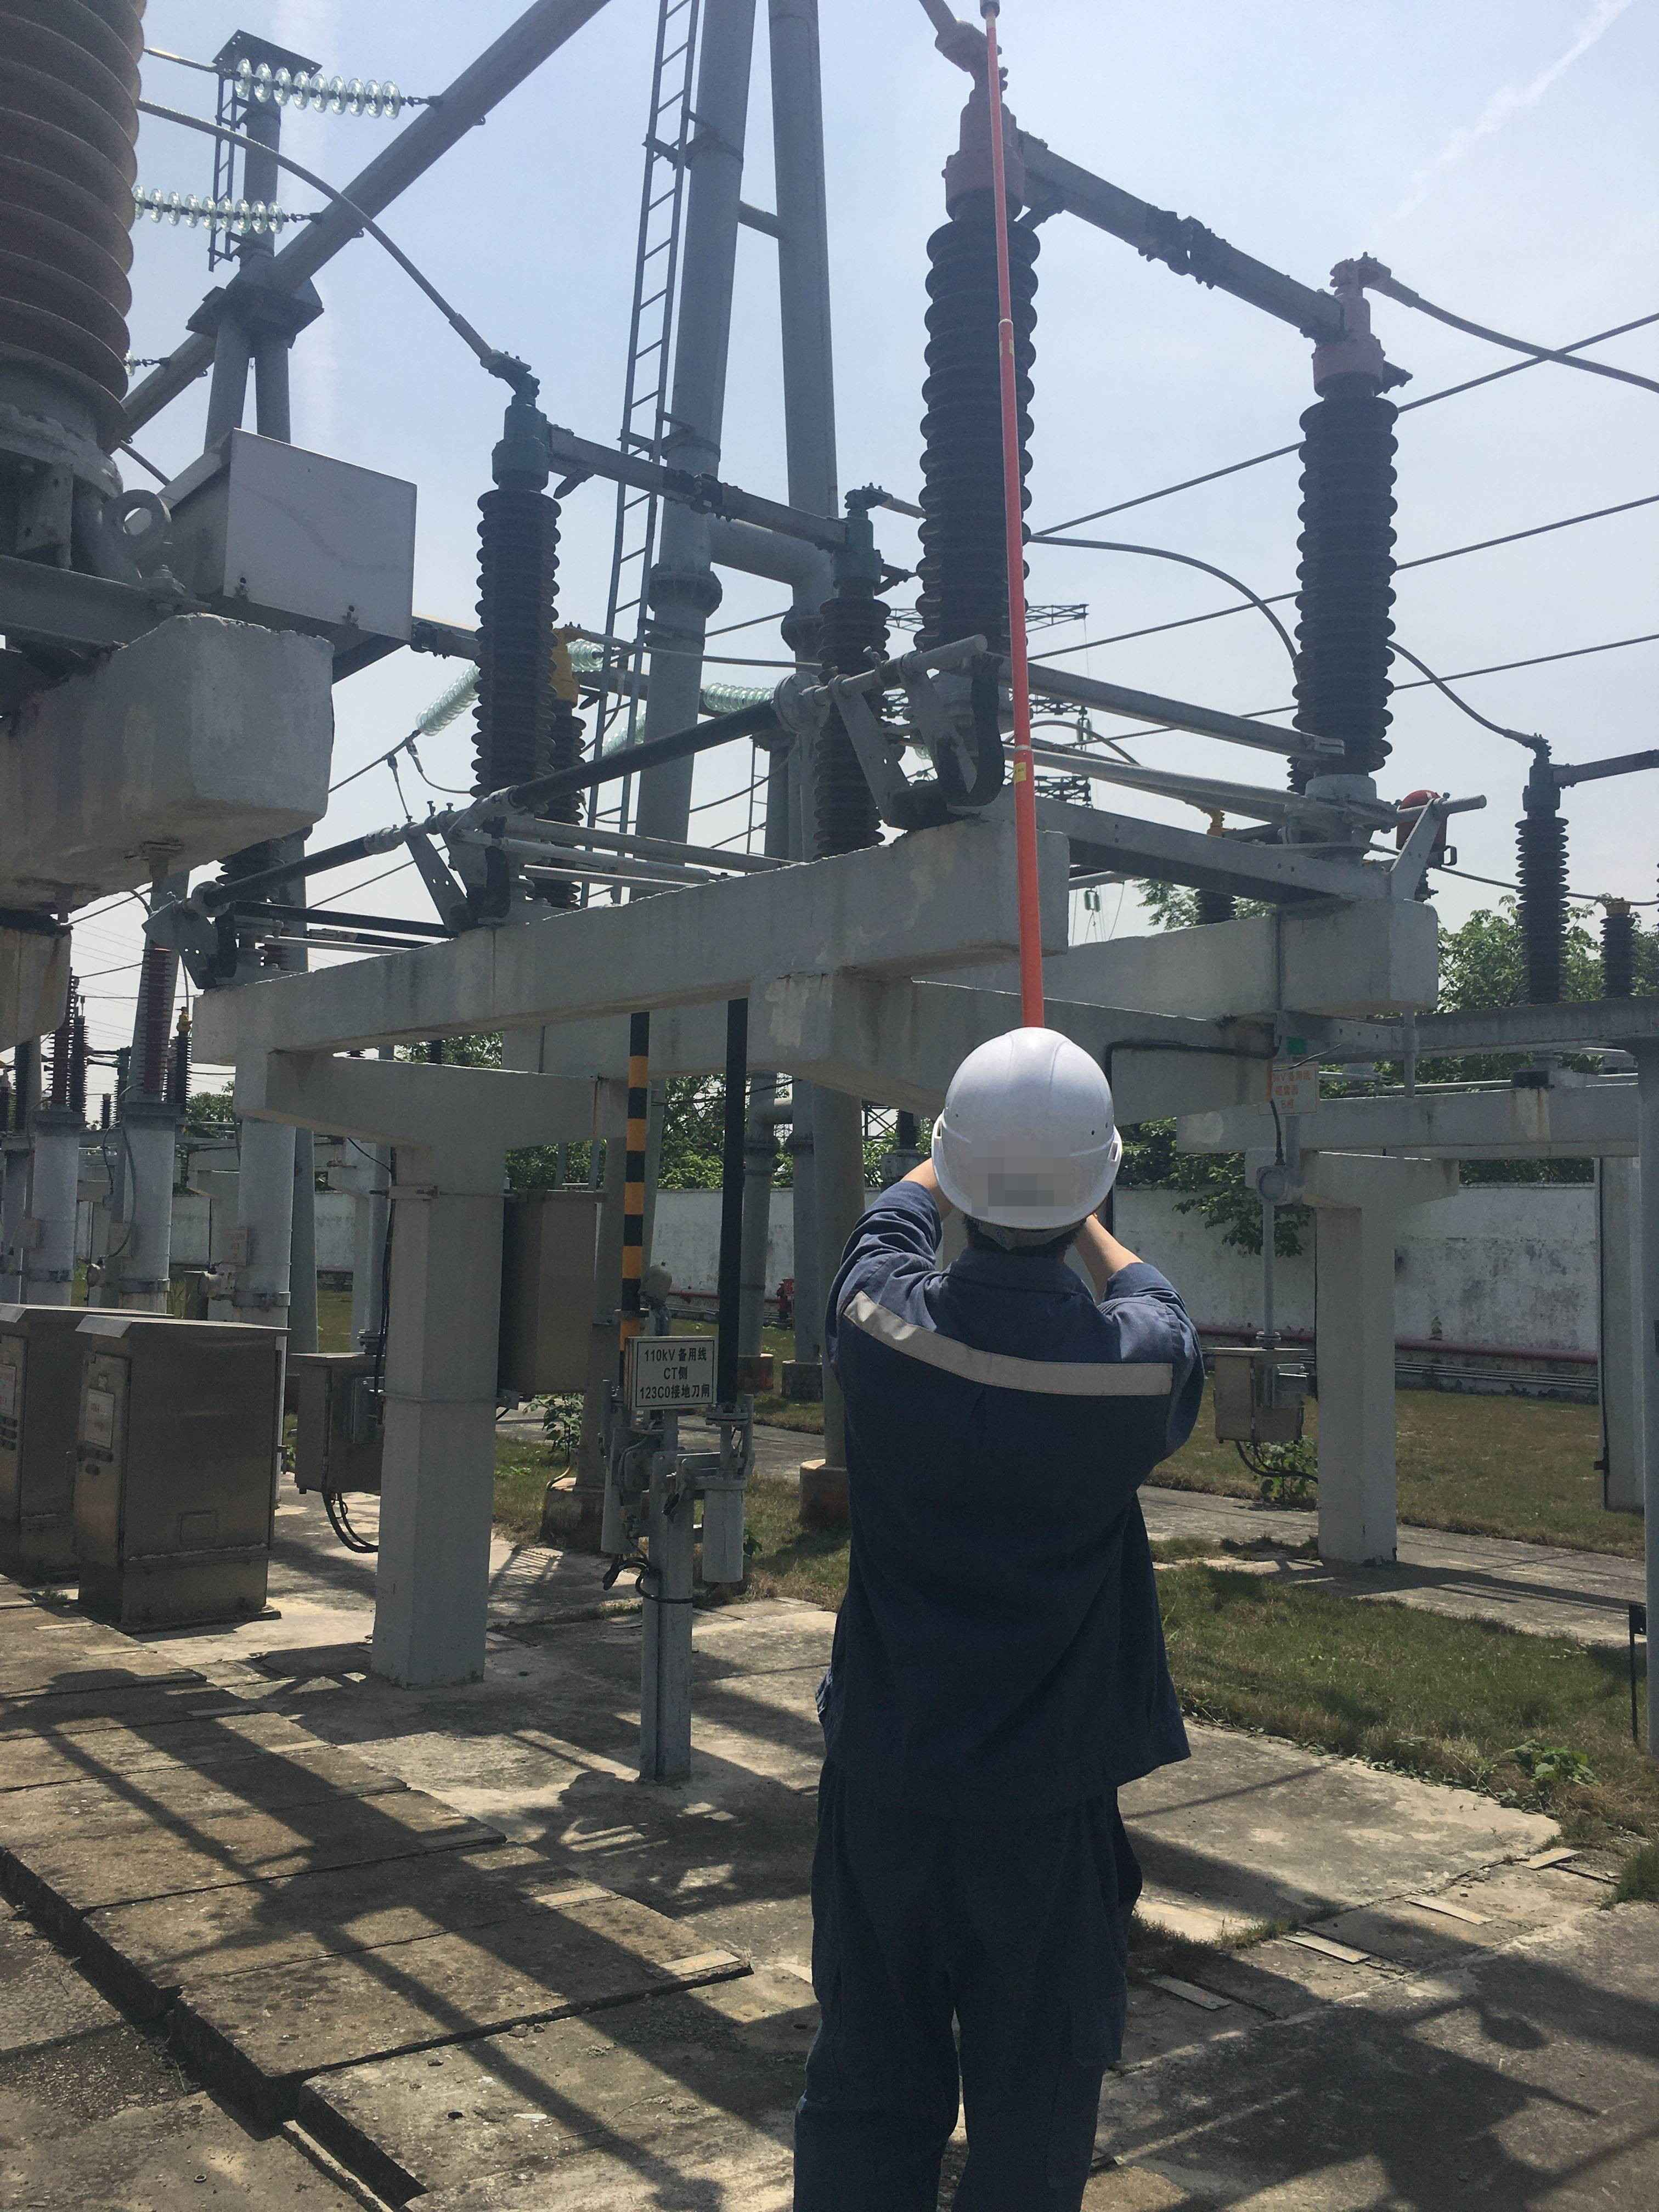downsuit: (779, 1813, 1141, 2212)
upsuit: (816, 1191, 1209, 1789)
wrongtop: (1077, 1211, 1150, 1298)
